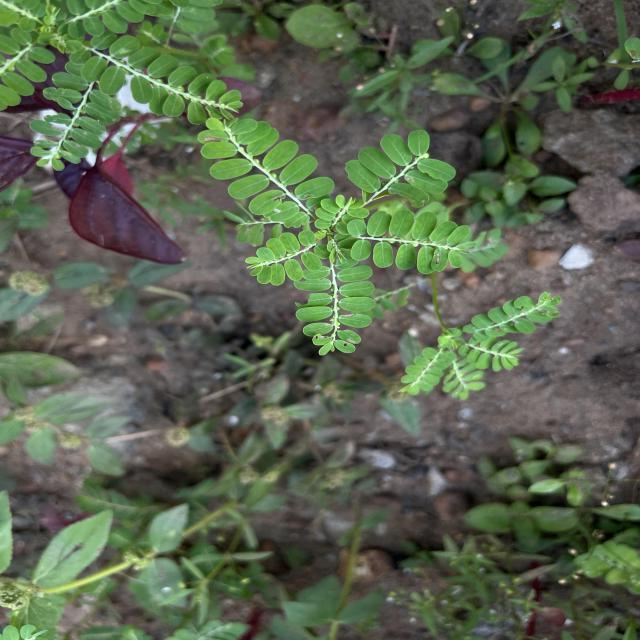Phyllanthus niruri: (68, 30, 250, 127), (196, 116, 336, 230), (28, 66, 124, 172), (336, 208, 478, 276), (342, 128, 459, 210), (292, 262, 376, 360), (244, 229, 330, 288)
